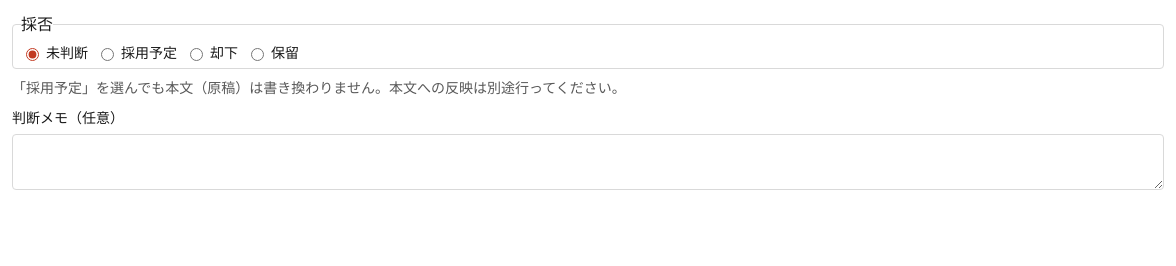
Test: JudgmentControl: 失敗時にエラーを出し、入力をサーバーの値へ戻す › 実行中の保存が失敗したら、送信待ちの値は送らない
Click the radio button labelled "却下" at coordinates (196, 54), box 190,48 -> 203,61
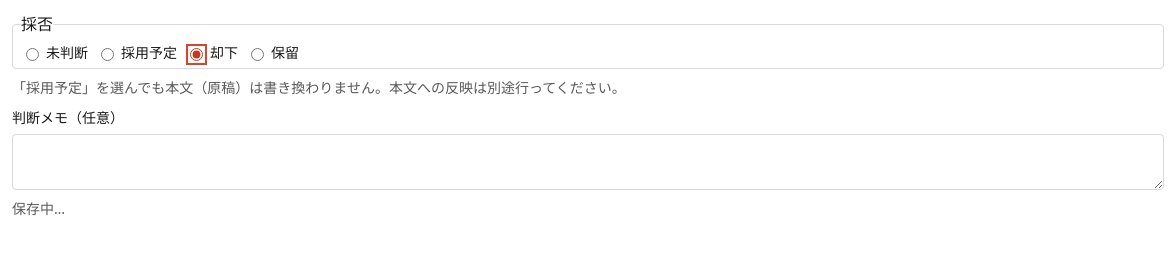
Click the radio button labelled "保留" at coordinates (258, 54), box 251,48 -> 264,61
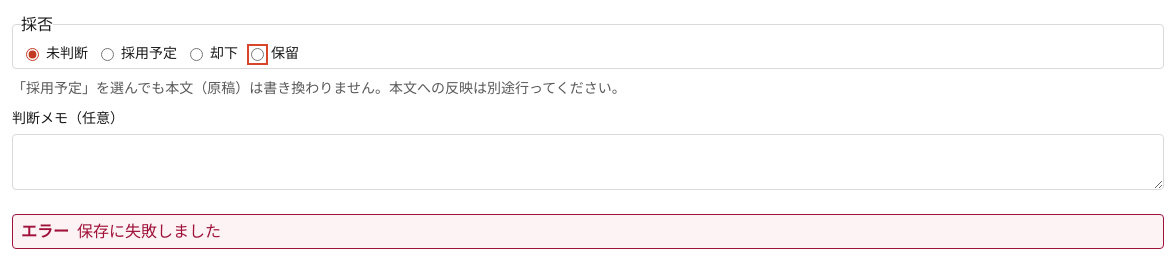
Check: the text "保存に失敗しました" is shown, box 12,214 -> 1164,249
Check: the radio button labelled "未判断" is checked, box 26,48 -> 39,61
